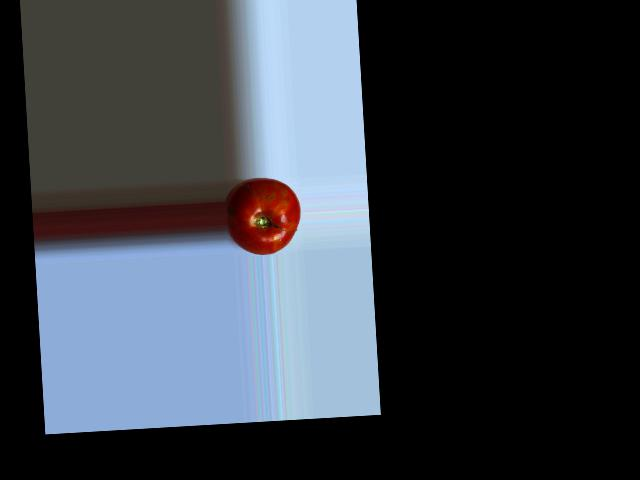tomato: (223, 175, 302, 256)
